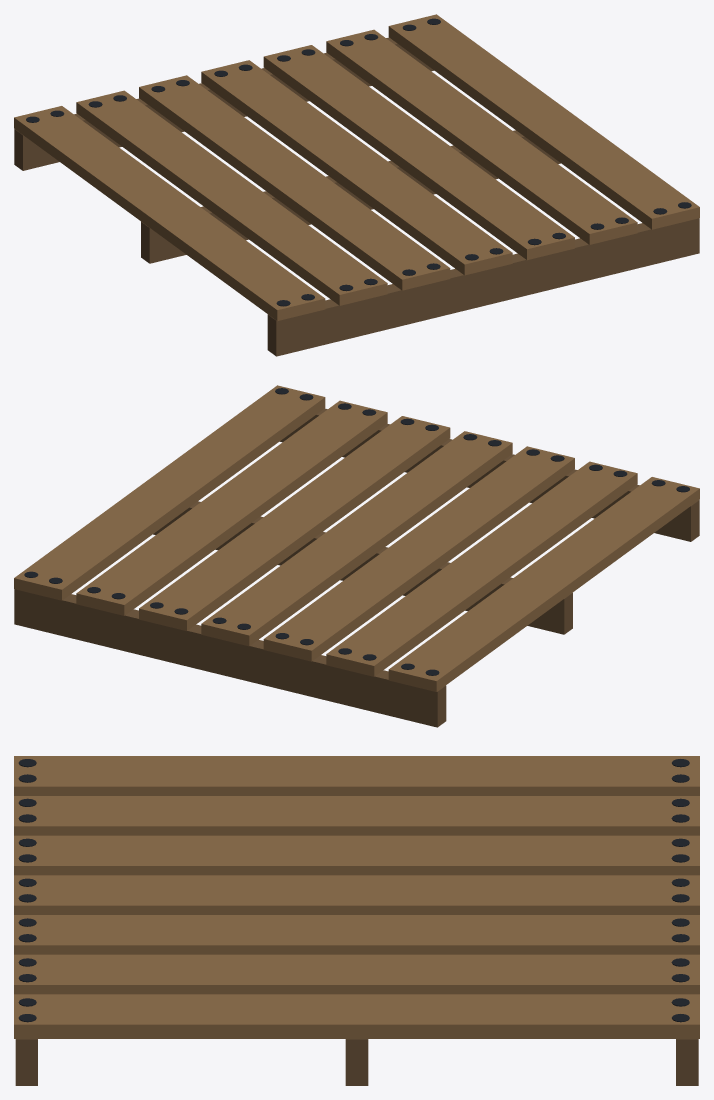
The model's file is WoodenPallet.fbx.
3 renders of one model, top to bottom at view 1: azimuth 30°, elevation 25°; view 2: azimuth 150°, elevation 25°; view 3: azimuth 270°, elevation 25°, orthographic. The views are drawn at different scales.
Visible parts, largest first — view 1: WoodenPallet; view 2: WoodenPallet; view 3: WoodenPallet.
Boxes of the visible parts, box(x1,y1,x2,y2) form: WoodenPallet: box(14, 14, 699, 356); WoodenPallet: box(14, 385, 699, 727); WoodenPallet: box(14, 756, 699, 1085).
Size of the model in its own units: 141 by 15.08 by 152.
